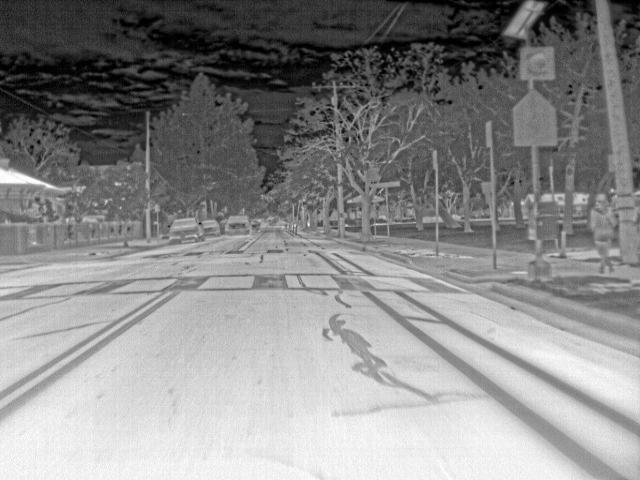car: (170, 216, 202, 244), (225, 214, 251, 236), (202, 220, 222, 236), (251, 218, 264, 232)
person: (588, 191, 617, 275)
